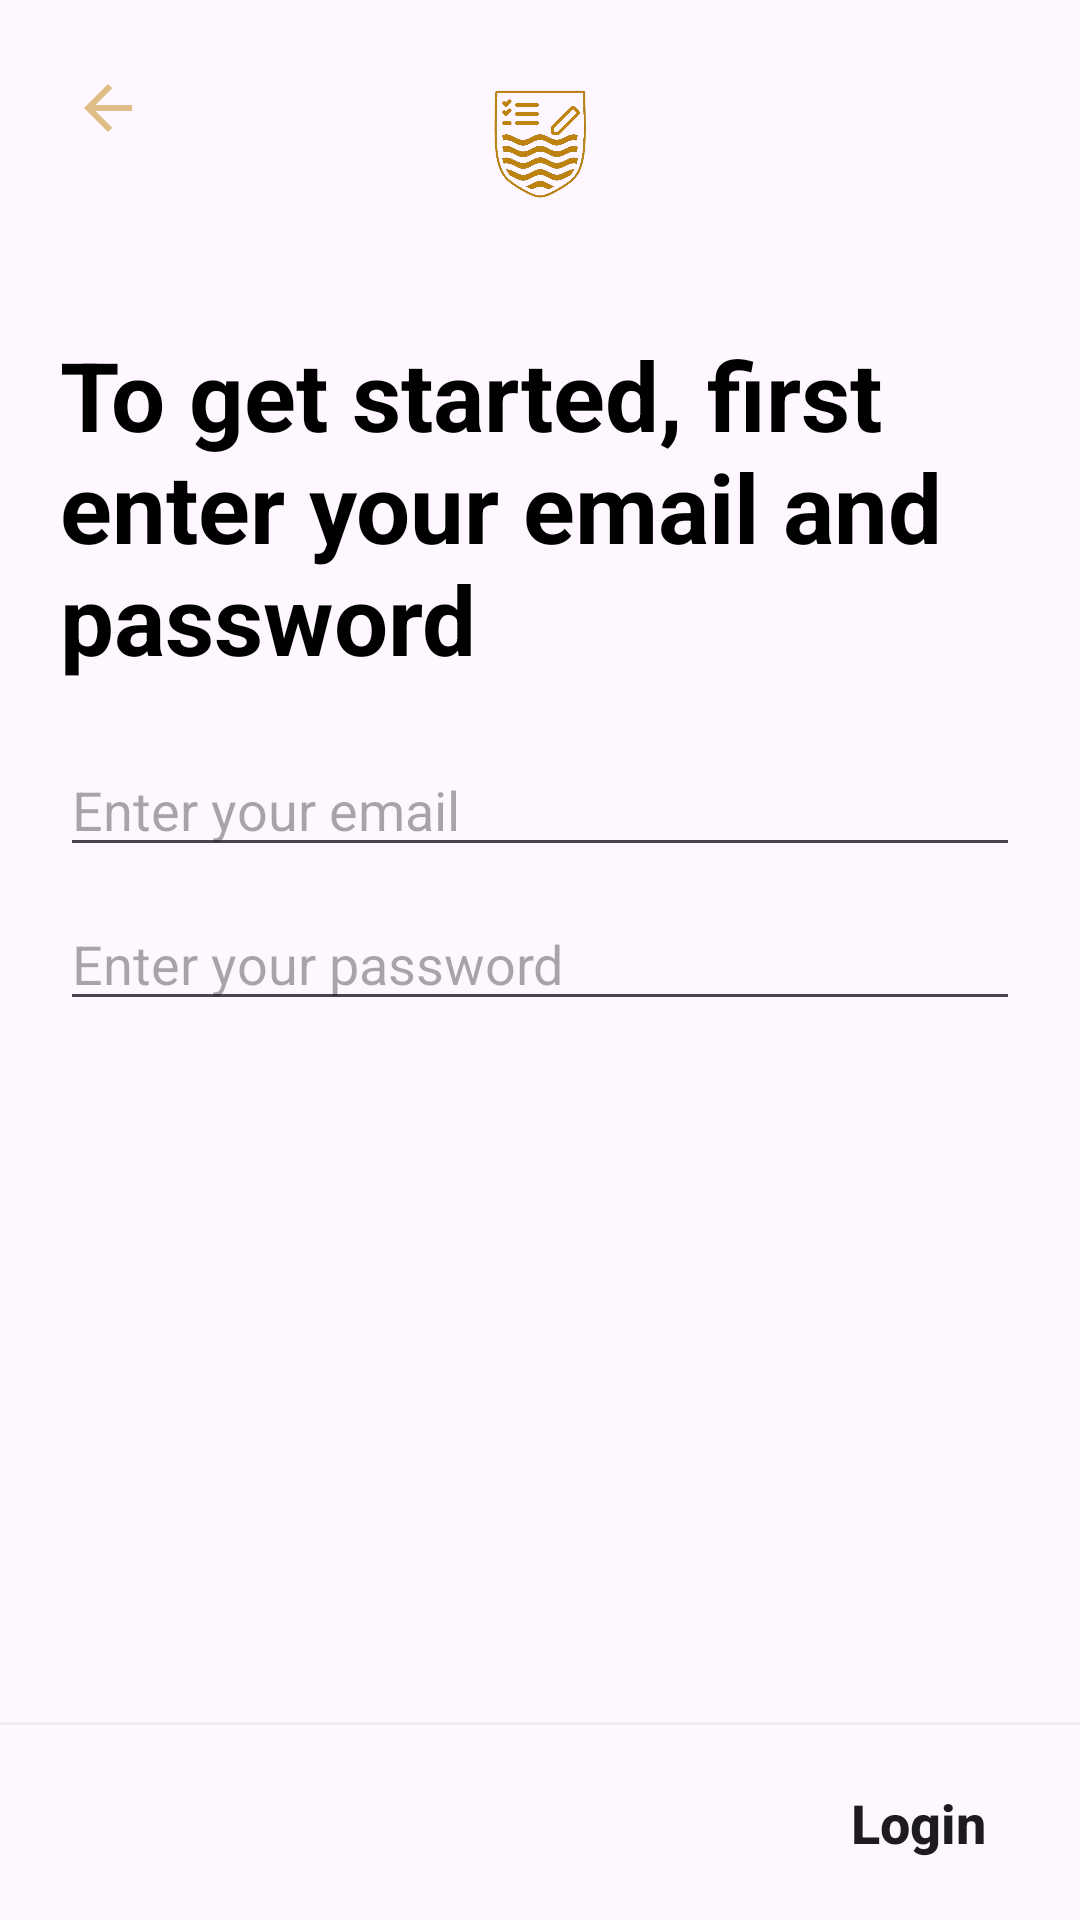

Where to tap for icons on this 1080 × 1920 app screen, as (x,y):
Back Button: (108,108)
